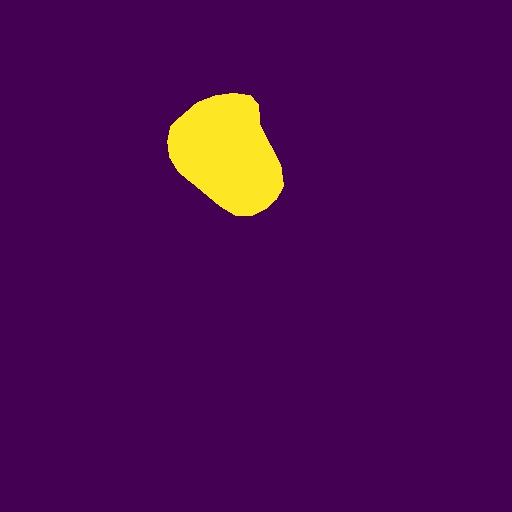Gliomia_tumour: (167, 93, 284, 216)
